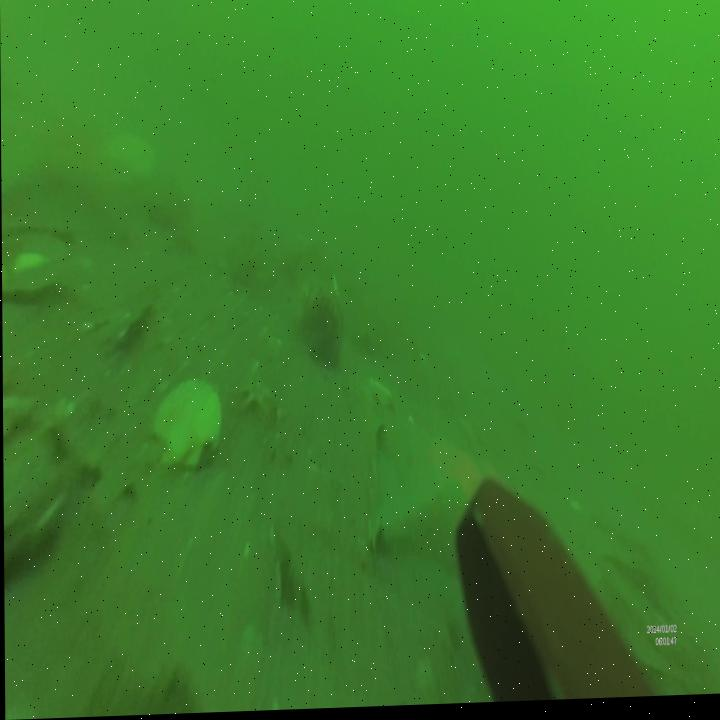scallop: (150, 379, 223, 470)
